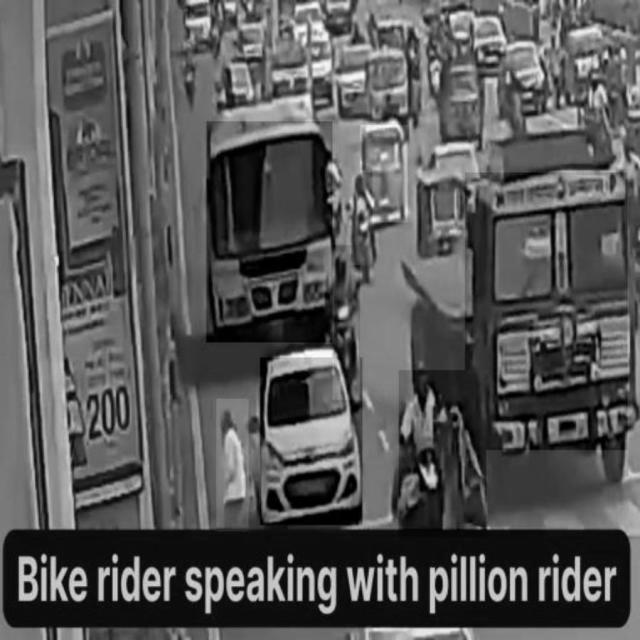accident: (399, 370, 487, 537)
person: (217, 400, 249, 532)
vehicle: (465, 173, 627, 451), (207, 122, 333, 343), (260, 358, 362, 525), (361, 125, 408, 223), (332, 246, 360, 400), (352, 173, 372, 265)
